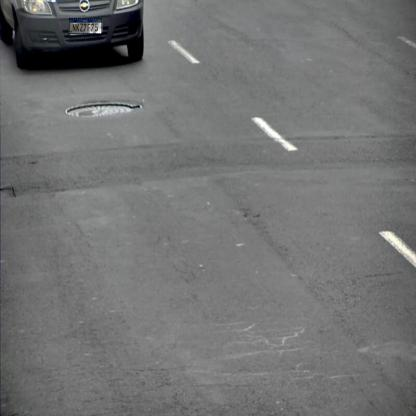PlacaM: (69, 18, 102, 34)
